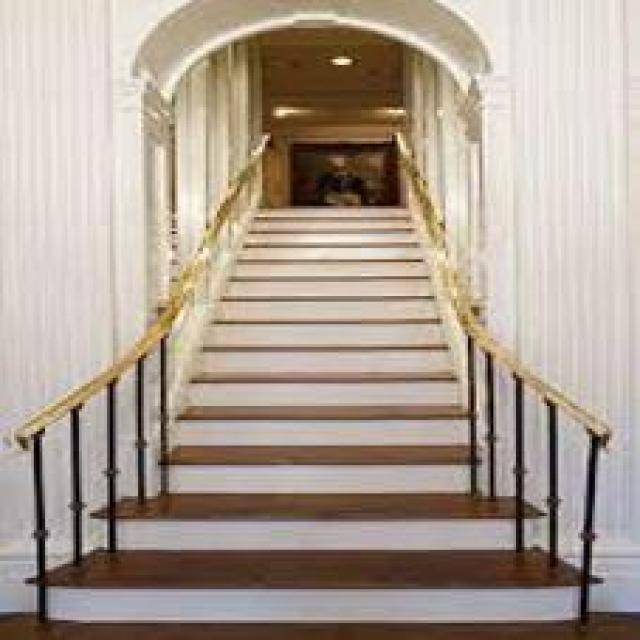stair: (164, 290, 508, 547)
